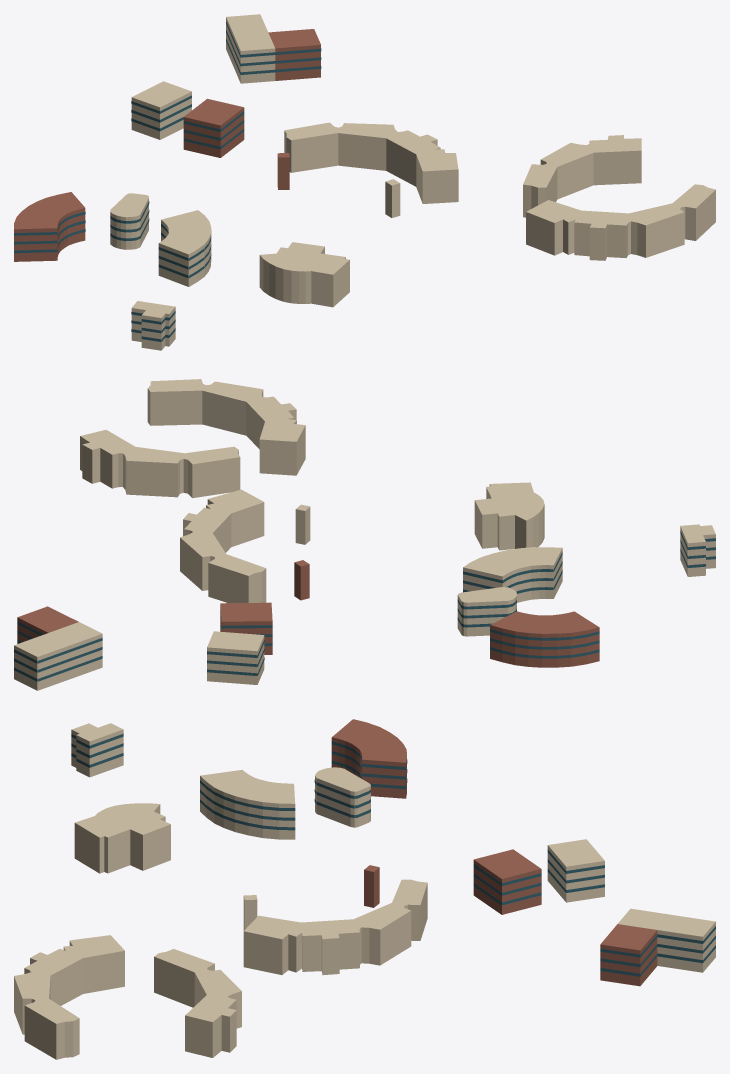
Rendered from city_4_-4.glb.
3 views of the same model, one above another, from view 1: azimuth 30°, elevation 25°; view 2: azimuth 150°, elevation 25°; view 3: azimuth 270°, elevation 25° (orthographic). The views are drawn at different scales.
Parts seen in each view (by area): view 1: city_4_-4; view 2: city_4_-4; view 3: city_4_-4.
Boxes of the visible parts, <box> form: city_4_-4: <box>14,14,715,350</box>; city_4_-4: <box>14,379,715,690</box>; city_4_-4: <box>14,719,715,1059</box>.
Size of the model in its own units: 273 by 15 by 266.
